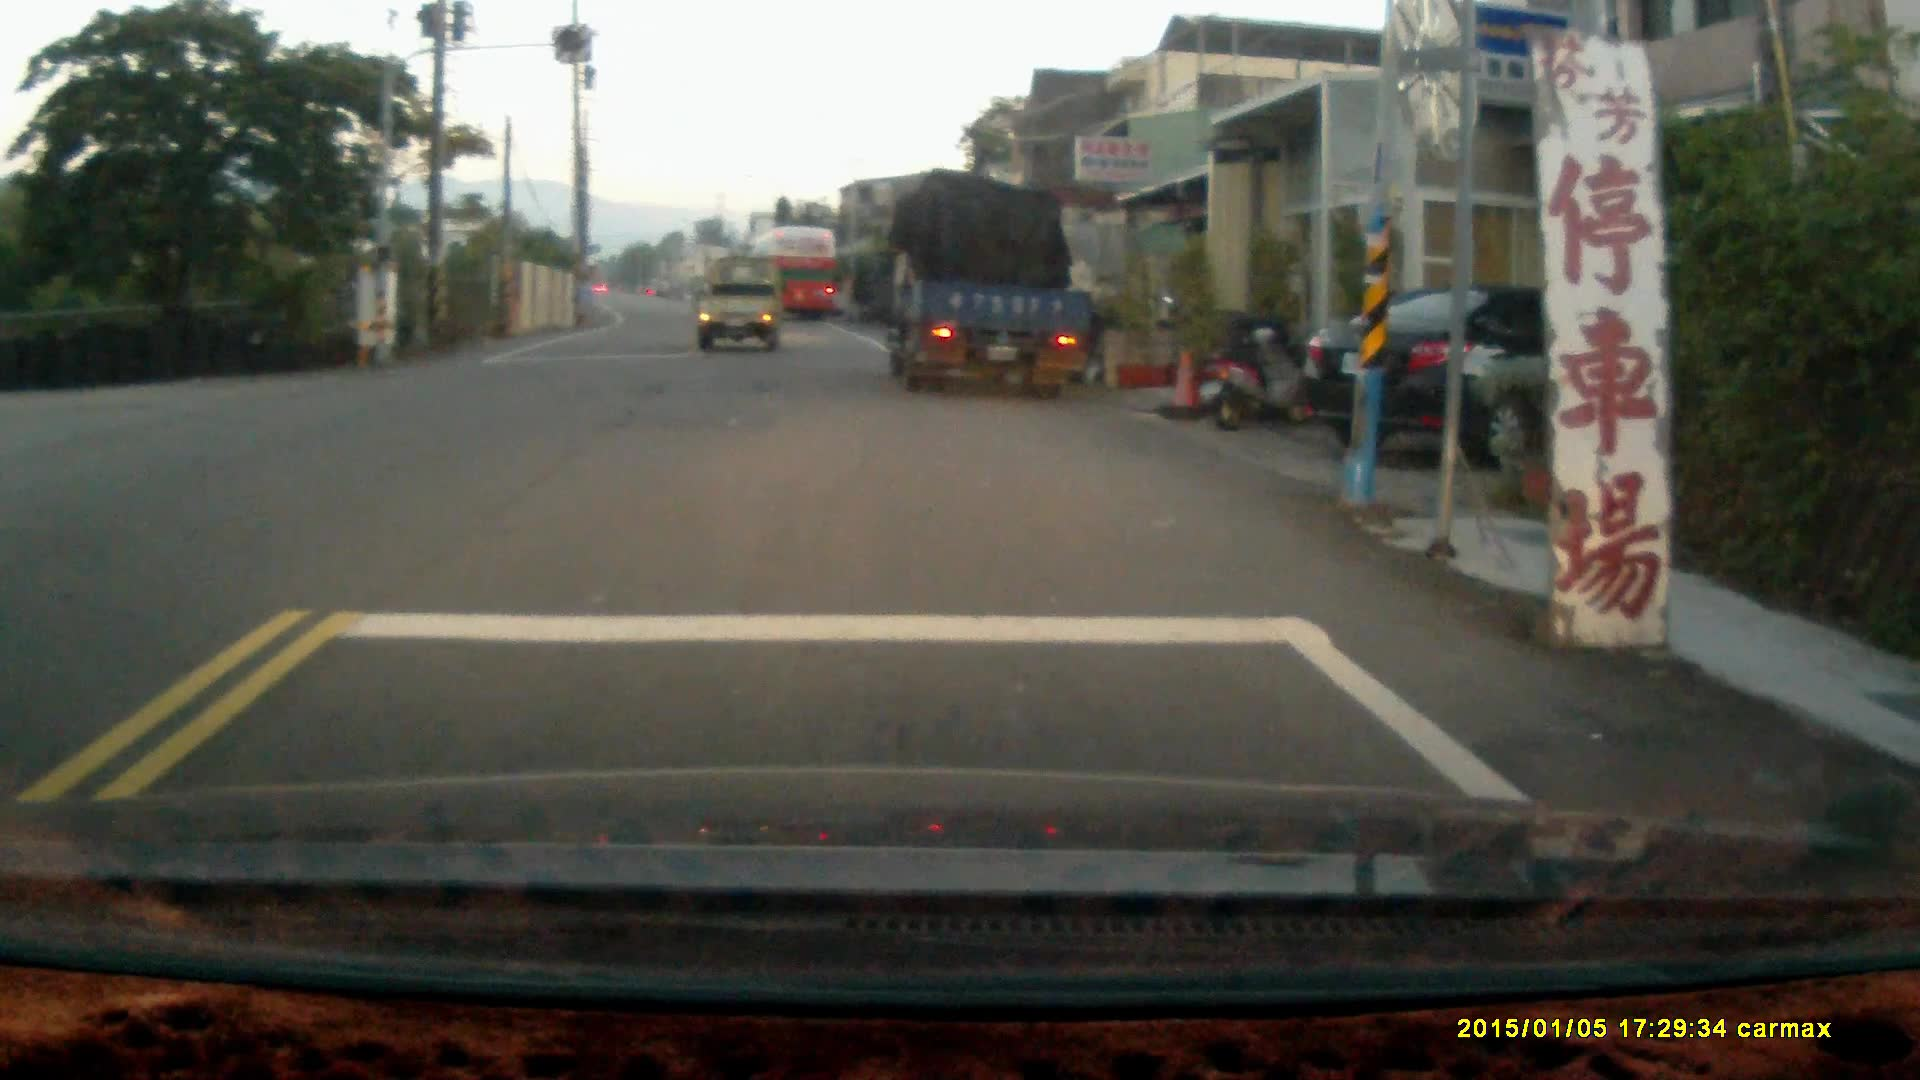vehicle: (1298, 284, 1706, 473), (891, 177, 1102, 390), (749, 229, 843, 332), (699, 257, 789, 349)
